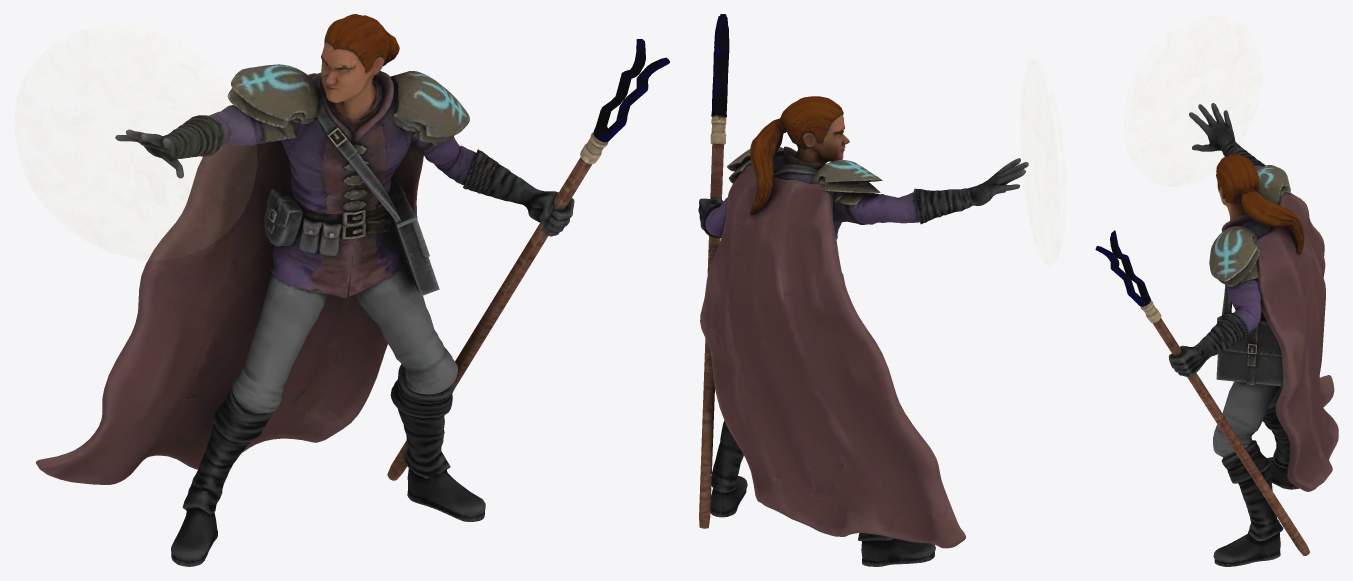
Rendered from MZ4250 - Human Male Abjuration Wizard with Shield spell_4.glb.
3 renders of one model, left to right at view 1: azimuth 30°, elevation 25°; view 2: azimuth 150°, elevation 25°; view 3: azimuth 270°, elevation 25°, orthographic. The views are drawn at different scales.
Parts seen in each view (by area): view 1: HMA4; view 2: HMA4; view 3: HMA4.
Boxes of the visible parts, bbox=[...] form: HMA4: bbox=[36, 14, 669, 566]; HMA4: bbox=[698, 14, 1028, 566]; HMA4: bbox=[1095, 103, 1338, 566].
Bounding box in the file's own units: 88.72 × 93.39 × 48.96.
2 materials, 2 textured.
